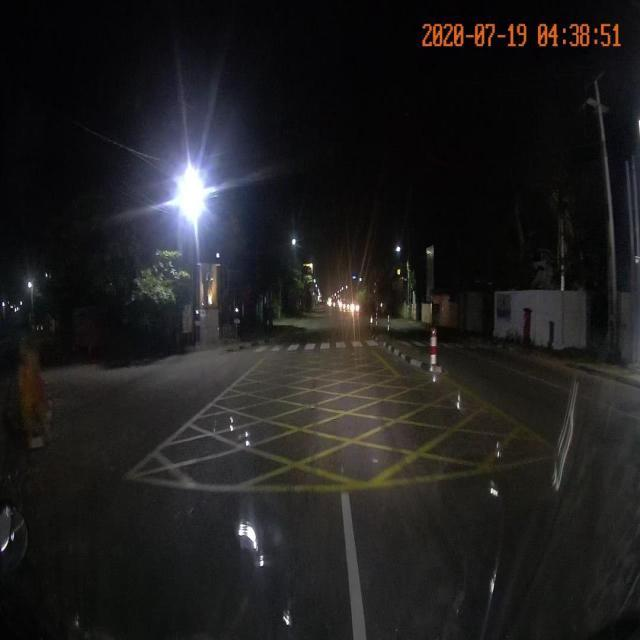Jeltaya razmetka: (120, 353, 571, 494)
Liniya 1: (340, 492, 368, 640)
Perehod: (255, 339, 383, 354)
